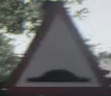Speed Breaker ahead: (7, 16, 98, 88)
